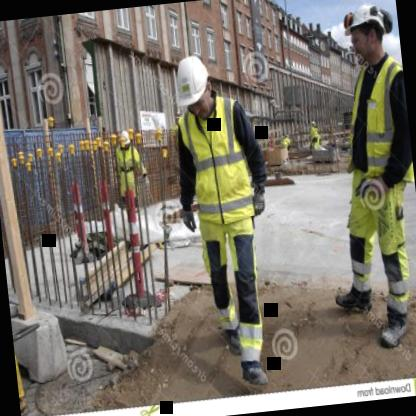helmet: (337, 0, 391, 67), (172, 47, 218, 123), (116, 128, 134, 153)
